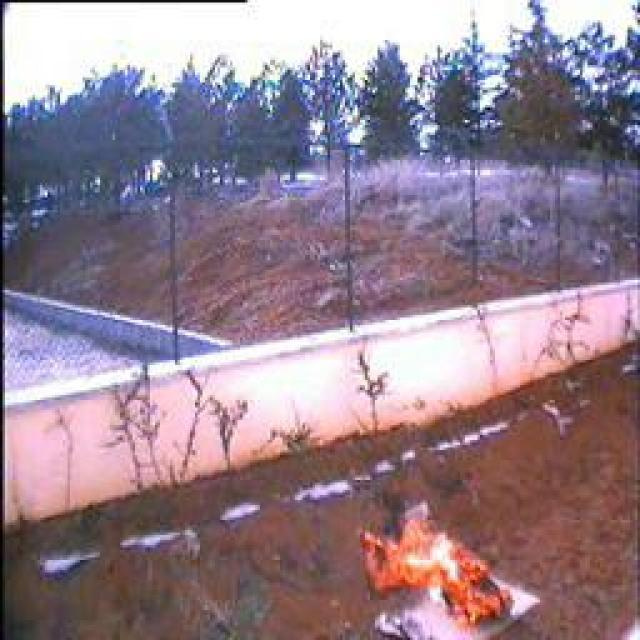Fire: (359, 501, 519, 631)
